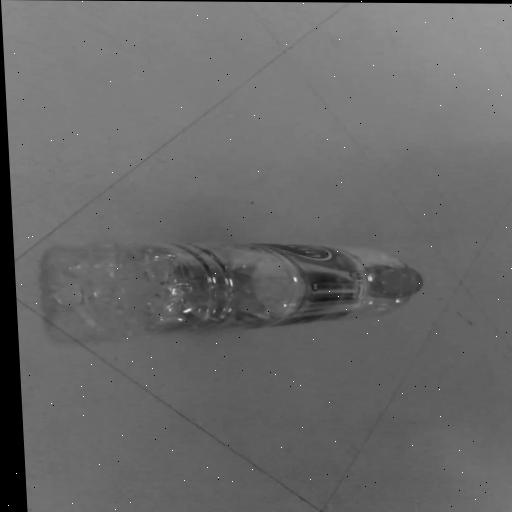bottle: (36, 239, 424, 339)
